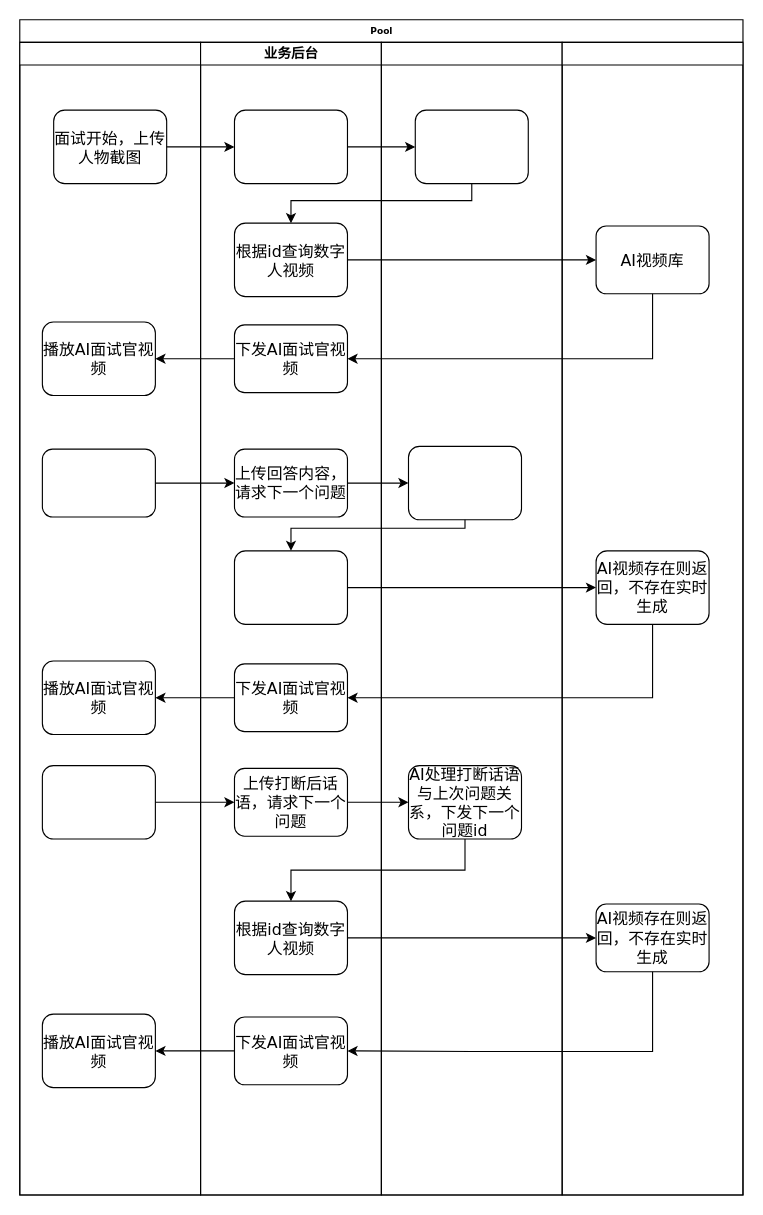
The diagram is 763 pixels wide and 1215 high, and some of its shapes have lost their labels. The box of each missing label's shape, as (x1, y1, x2, y2) in pixels:
App: (19, 41, 201, 1195)
播放面试官视频，被阿姨说话打断，1秒后播放面试中间语: (41, 764, 155, 839)
数字人服务: (561, 41, 743, 1195)
根据id查询数字人视频或文案: (233, 550, 347, 624)
根据人物性别年龄下发开场语id: (414, 109, 528, 184)
根据回答下发下一个问题id: (407, 445, 521, 520)
知识库: (380, 41, 562, 1195)
请求AI面试官开场语: (233, 109, 347, 184)
阿姨回答问题，端上实时文字转语音，1秒后播放面试官中间语: (41, 448, 155, 517)
